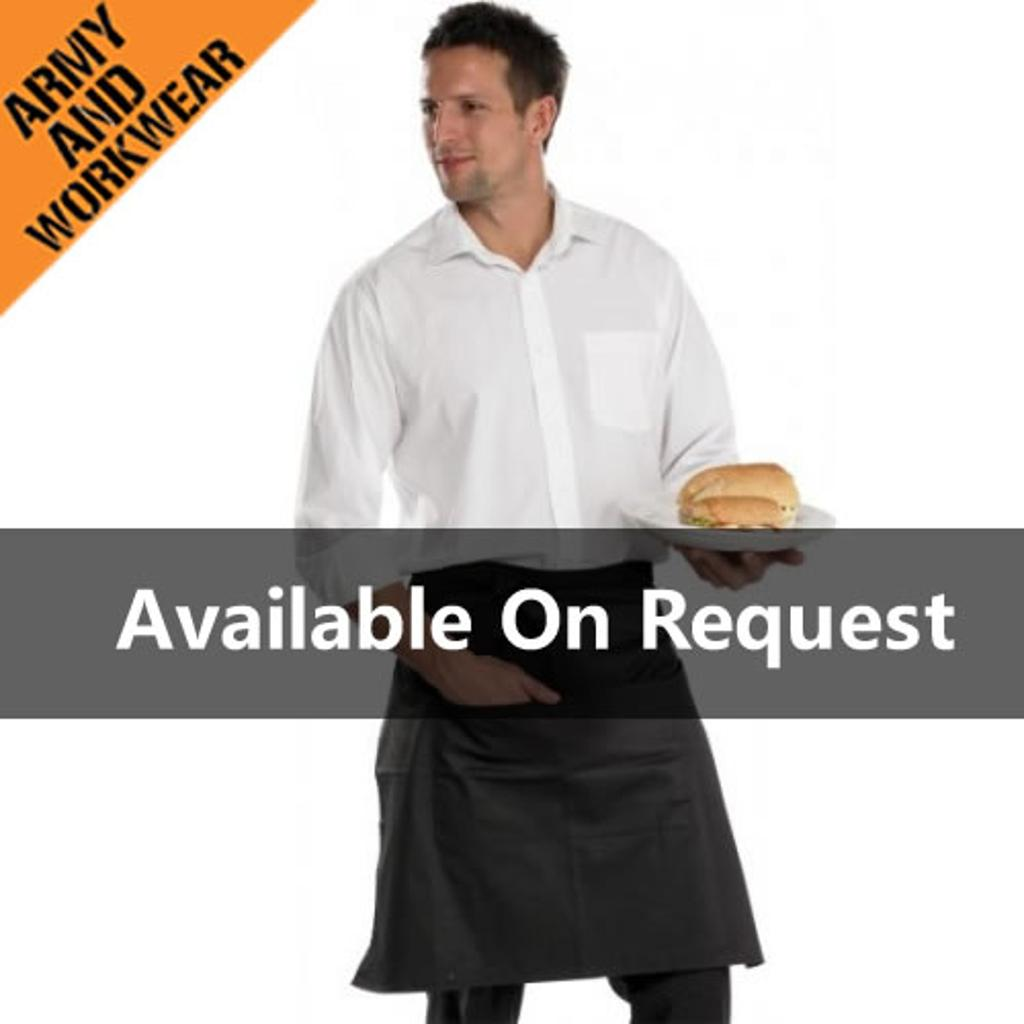face: (420, 52, 528, 202)
